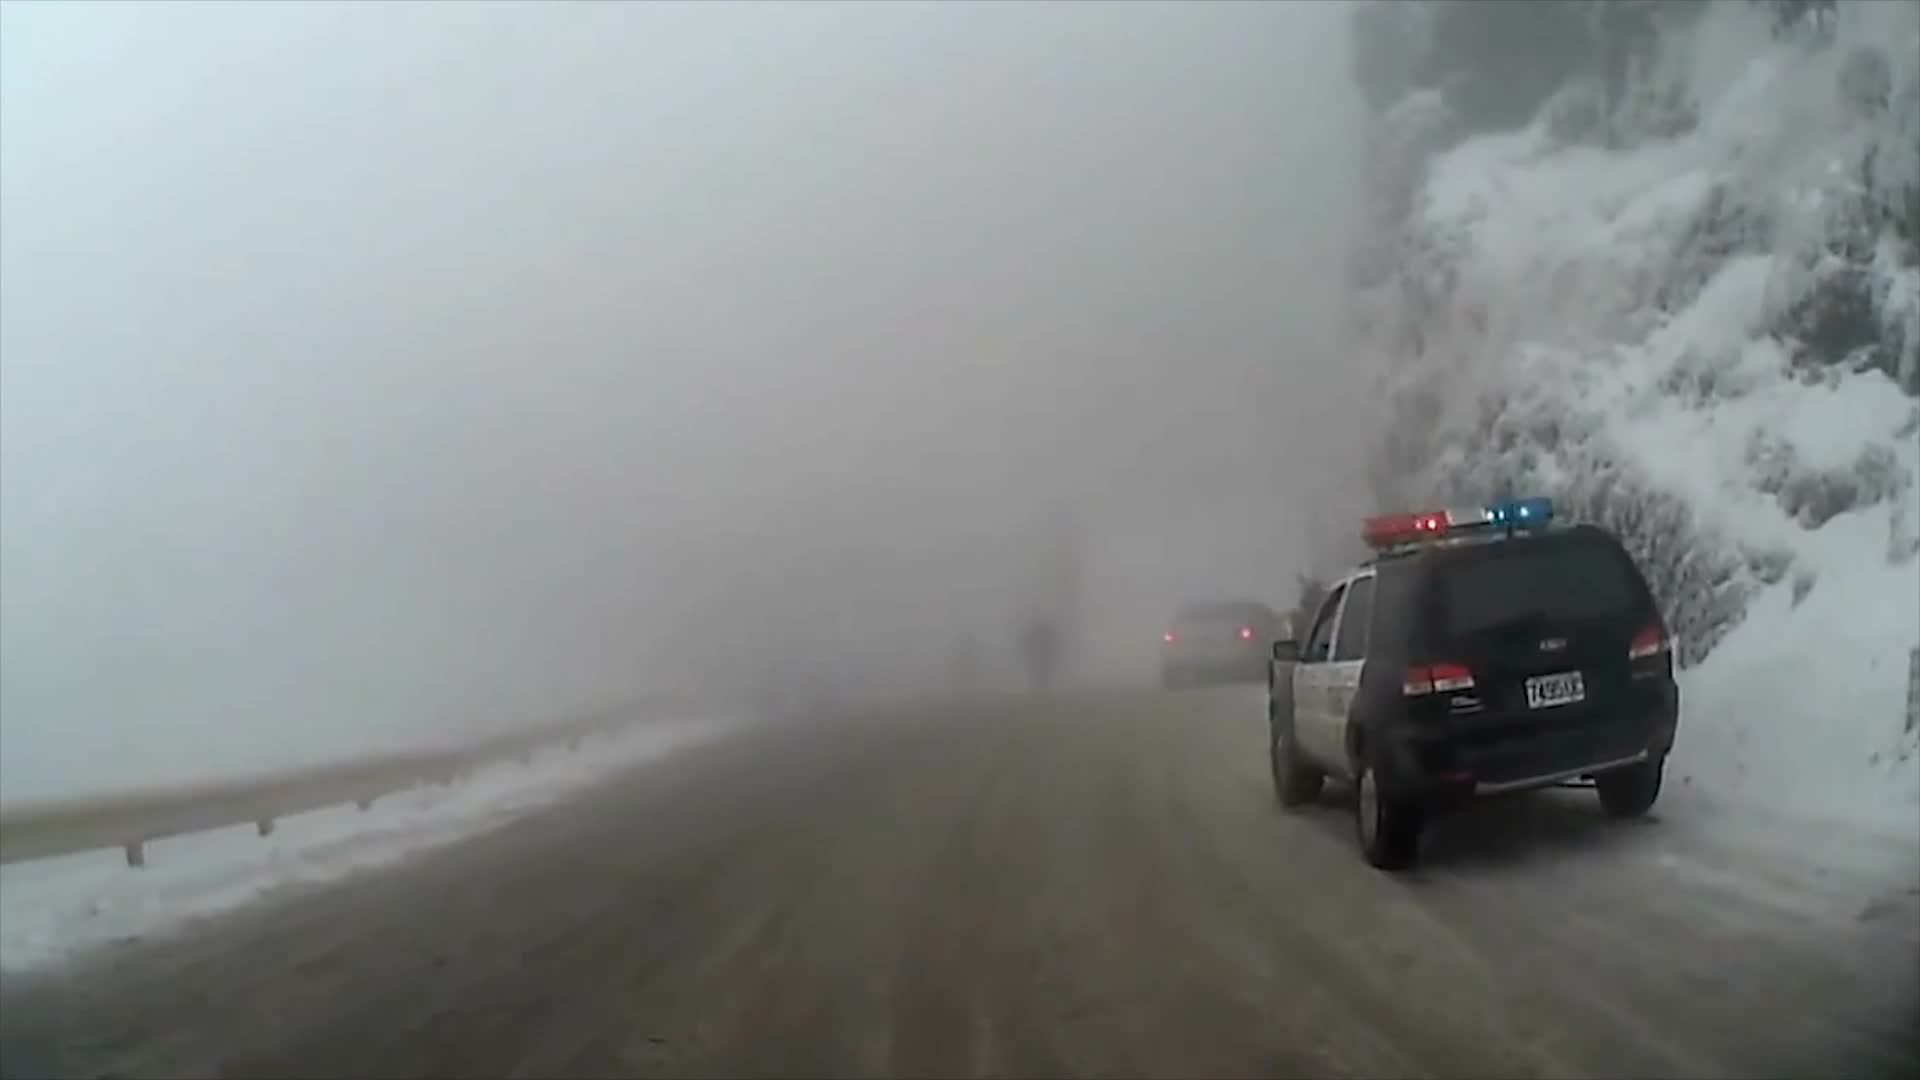vehicle: (1265, 493, 1681, 868), (1158, 600, 1287, 694)
